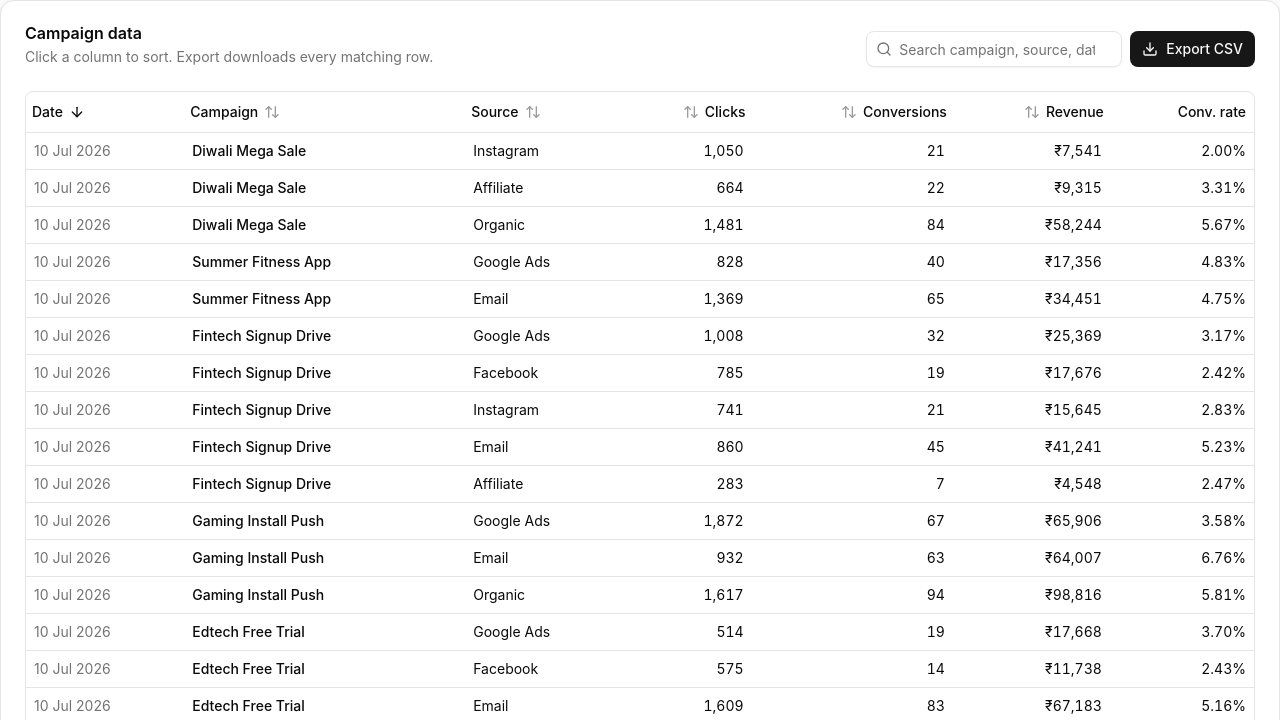
DataTable › filters rows after the debounce delay
Type "no-such-campaign" into the search field named "Search table". click: (994, 49)
box: x1=866 y1=31 x2=1122 y2=67
Wait 300 ms
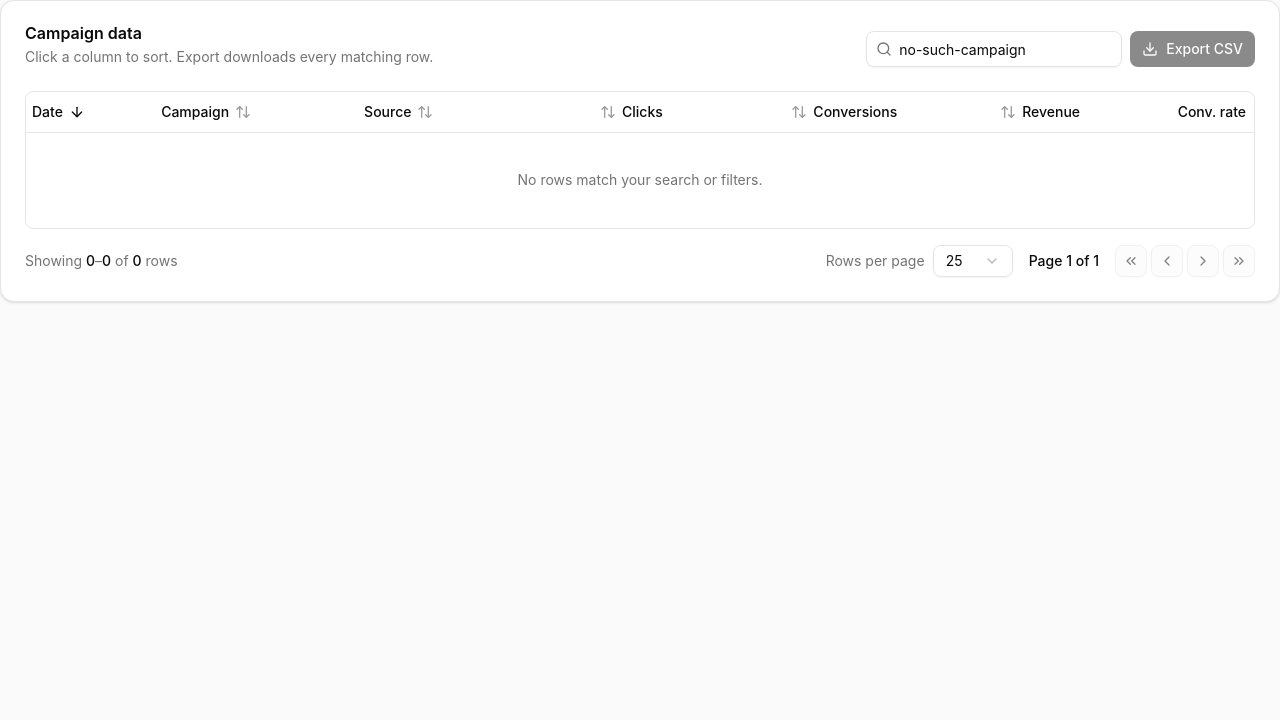
Result: the text "No rows match your search or filters." is shown at x1=26 y1=132 x2=1254 y2=228
